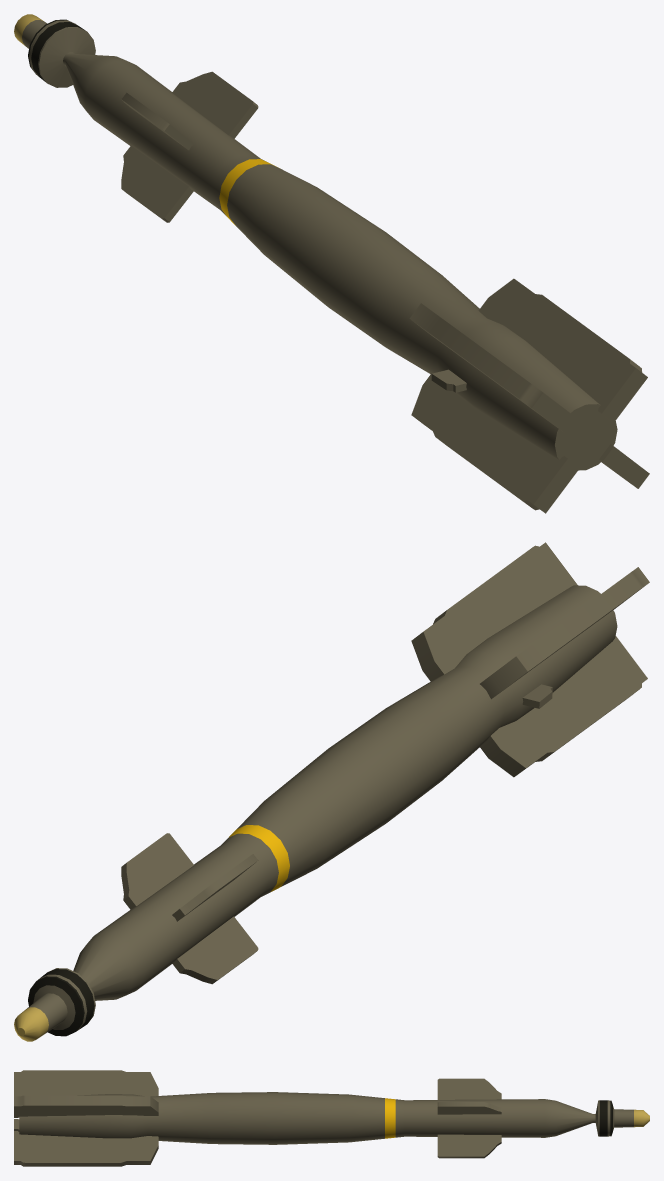
File: gbu12.glb
The picture shows the model from 3 angles, top to bottom: view 1: azimuth 30°, elevation 25°; view 2: azimuth 150°, elevation 25°; view 3: azimuth 270°, elevation 25°; orthographic projection. The views are drawn at different scales.
Parts seen in each view (by area): view 1: gbu12; view 2: gbu12; view 3: gbu12.
Part boxes in pixels (bbox=[...]): gbu12: bbox=[14, 14, 649, 513]; gbu12: bbox=[14, 542, 649, 1041]; gbu12: bbox=[14, 1070, 649, 1166].
Size of the model in its own units: 0.4104 by 0.4101 by 3.3.
